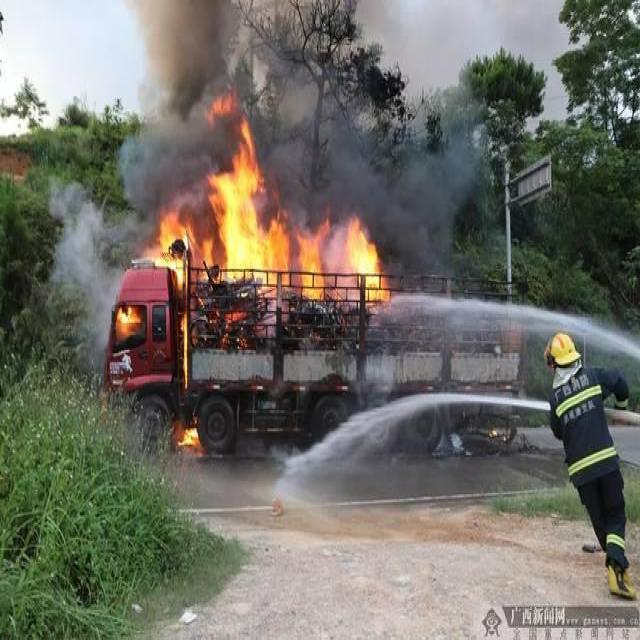Fire: (140, 100, 394, 308), (114, 293, 146, 338), (176, 417, 206, 452), (179, 310, 190, 391)
Smoke: (152, 4, 255, 104), (122, 113, 210, 191), (389, 157, 458, 244), (57, 202, 116, 294), (314, 140, 381, 212)
